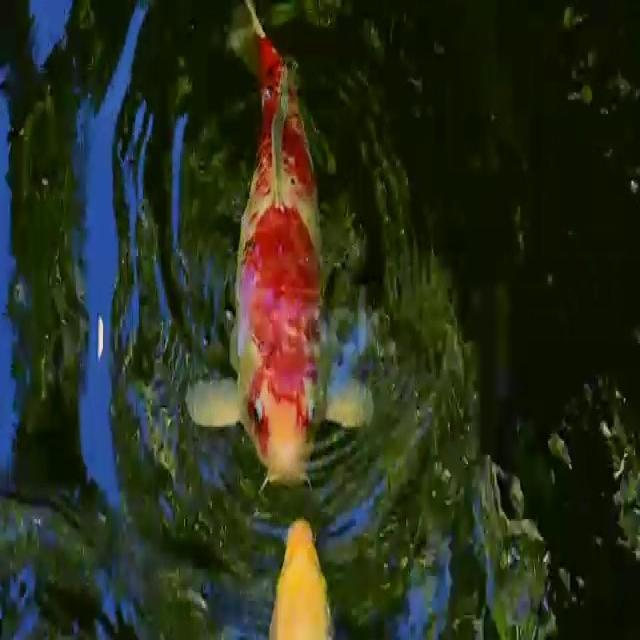fish: (180, 0, 382, 485), (267, 506, 339, 640)
